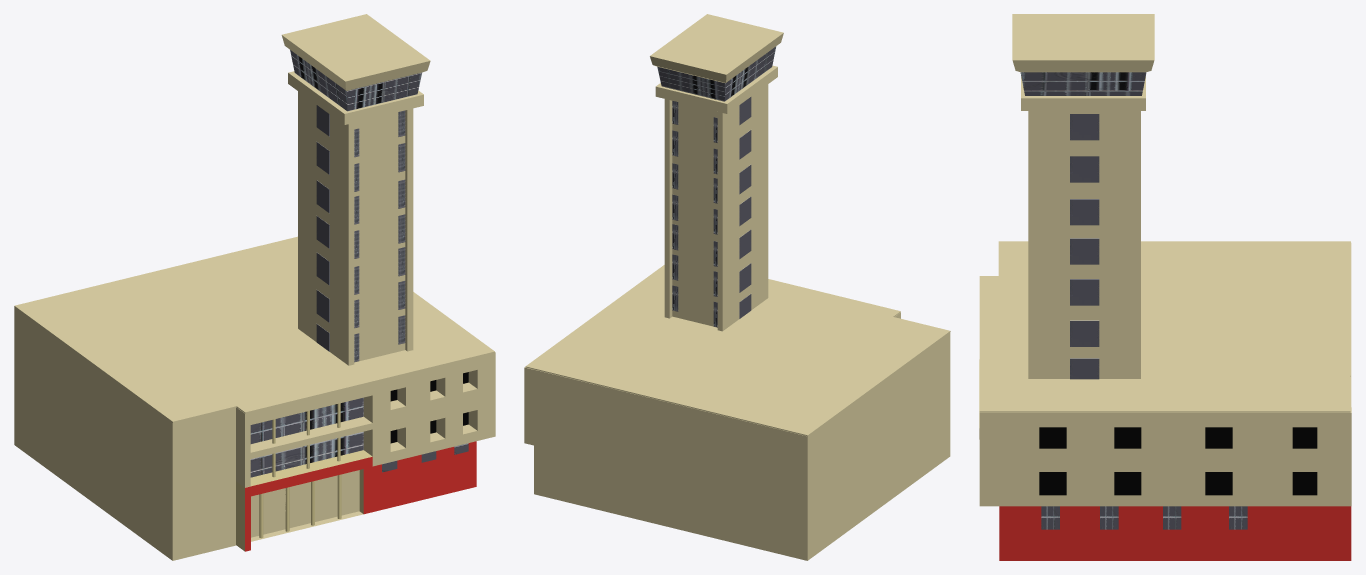
Rendered from ece tower.glb.
3 renders of one model, left to right at view 1: azimuth 30°, elevation 25°; view 2: azimuth 150°, elevation 25°; view 3: azimuth 270°, elevation 25°, orthographic. The views are drawn at different scales.
Parts seen in each view (by area): view 1: Cube; view 2: Cube; view 3: Cube, Plane.029, Plane.031, Plane.032, Plane.028, Plane.030, Plane.033, Plane.034.
Boxes of the visible parts, x1,y1,x2,y2 form: Cube: (14, 14, 495, 560); Cube: (524, 14, 950, 560); Cube: (979, 14, 1351, 560); Plane.029: (1070, 156, 1099, 182); Plane.031: (1070, 238, 1099, 264); Plane.032: (1070, 279, 1099, 305); Plane.028: (1070, 114, 1099, 140); Plane.030: (1070, 199, 1099, 225); Plane.033: (1070, 320, 1099, 346); Plane.034: (1070, 358, 1099, 379).
Bounding box in the file's own units: 20.87 × 27.36 × 19.28.
Materials: 11 (7 with a texture image).
